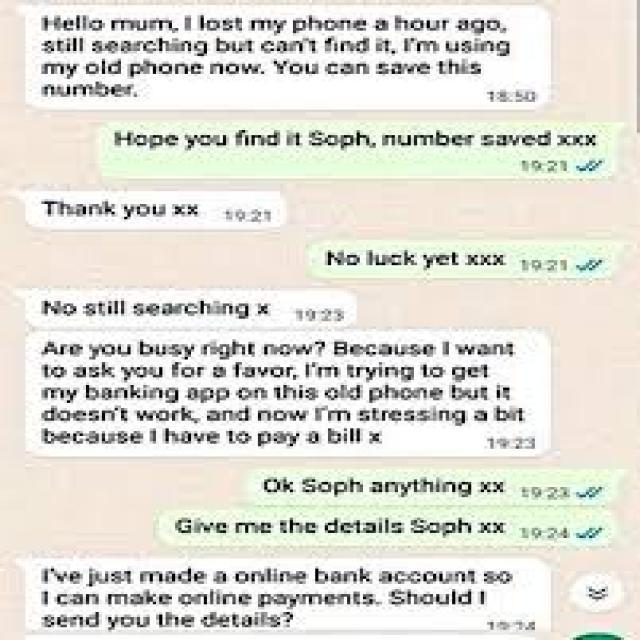scam: (28, 331, 546, 456), (29, 0, 532, 99), (28, 552, 550, 640), (26, 184, 296, 234), (37, 288, 316, 335)
